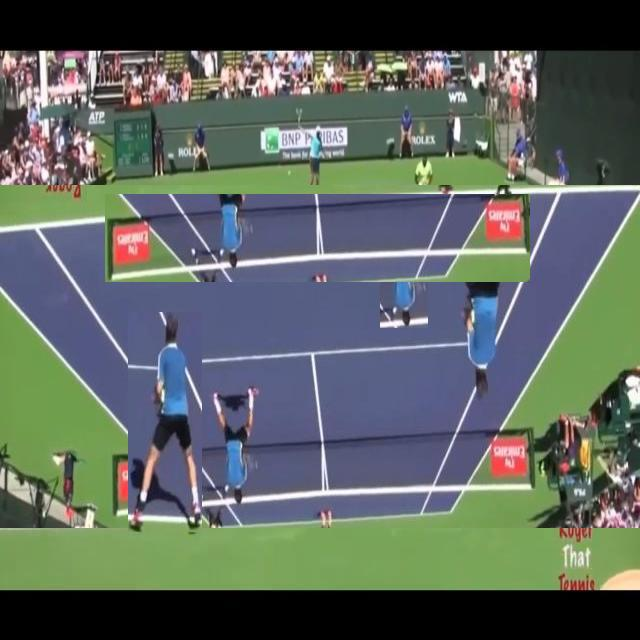court: (0, 186, 640, 530)
net: (105, 195, 530, 284)
player: (128, 314, 202, 534), (381, 208, 428, 328)
